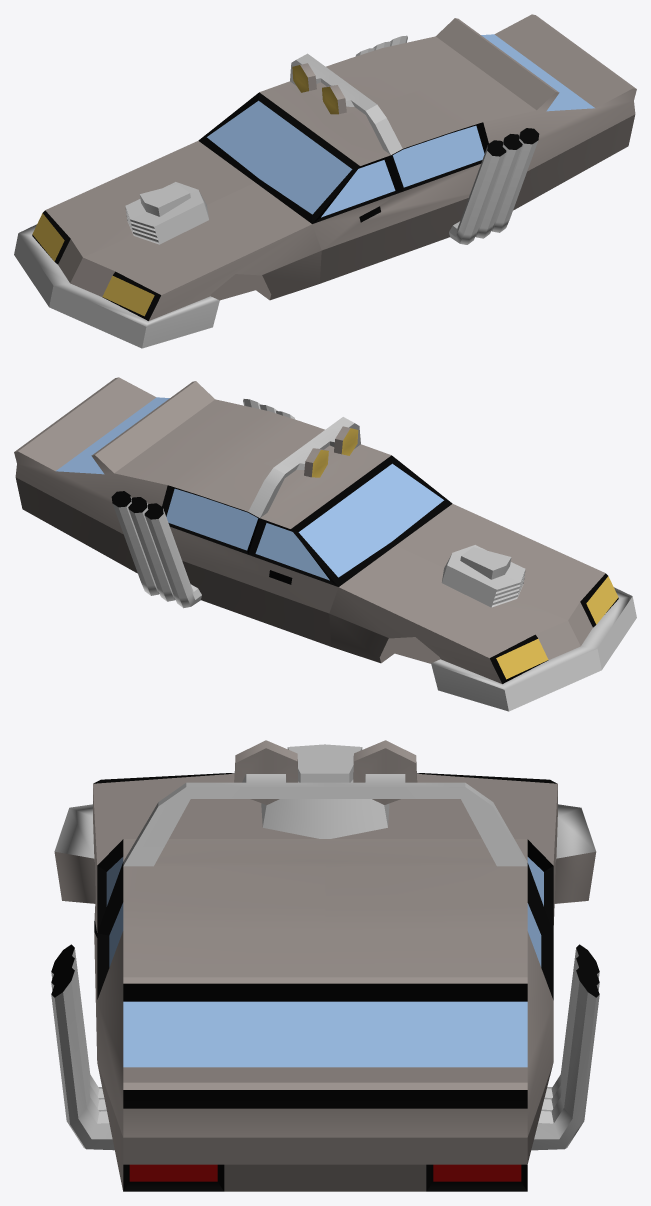
File: V8 Interceptor 412.fbx
3 views of the same model, one above another, from view 1: azimuth 30°, elevation 25°; view 2: azimuth 150°, elevation 25°; view 3: azimuth 270°, elevation 25° (orthographic). The views are drawn at different scales.
Visible parts, largest first — view 1: polySurface47; view 2: polySurface47; view 3: polySurface47.
Part boxes in pixels (left/top/right/bottom): polySurface47: left=14, top=14, right=636, bottom=348; polySurface47: left=14, top=377, right=636, bottom=711; polySurface47: left=51, top=740, right=599, bottom=1191.
Bounding box in the file's own units: 19.67 × 5.88 × 8.69.
